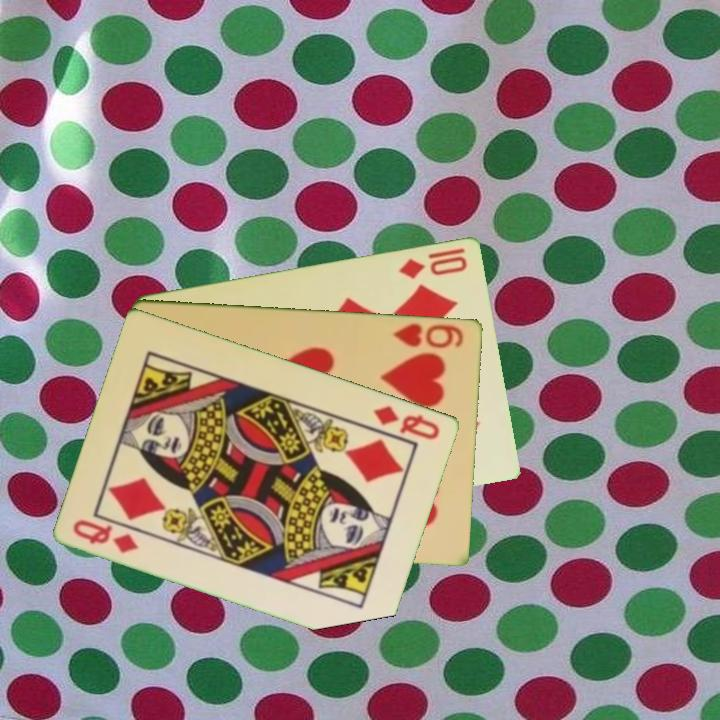10d: (396, 251, 471, 282)
6h: (390, 319, 466, 351)
Qd: (370, 401, 443, 443), (70, 515, 142, 556)
